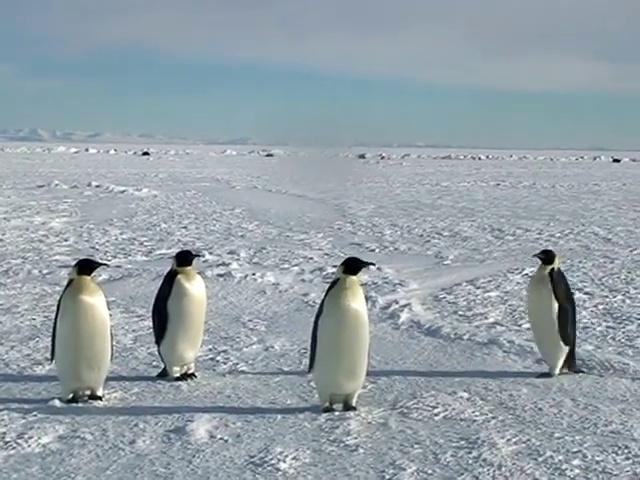animal: (310, 257, 376, 413)
